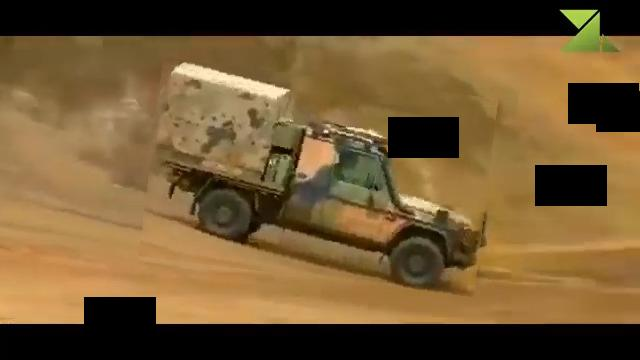MIL_HMMWV: (145, 68, 493, 288)
